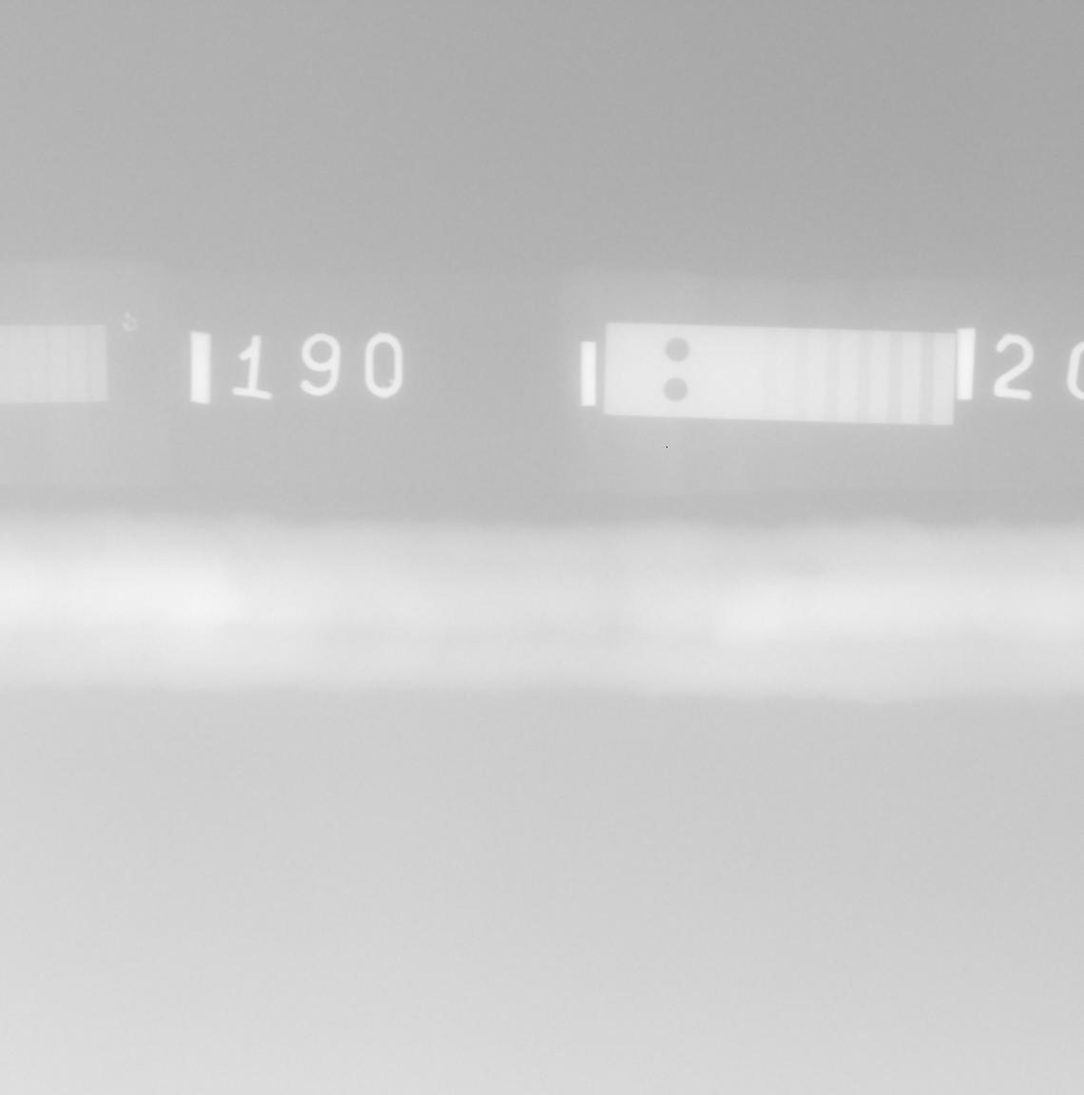Reference Standard 2: (603, 322, 955, 426)
